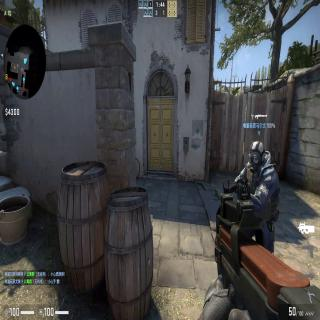CT-Head: (248, 140, 264, 175)
